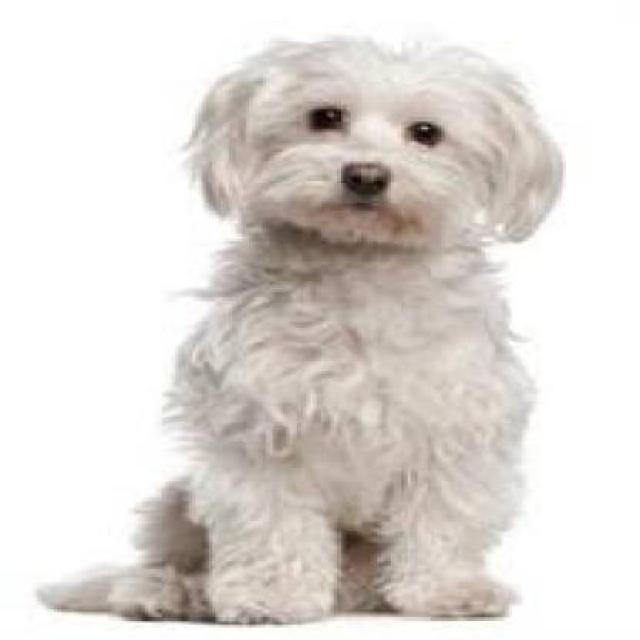Dog: (32, 20, 570, 628)
